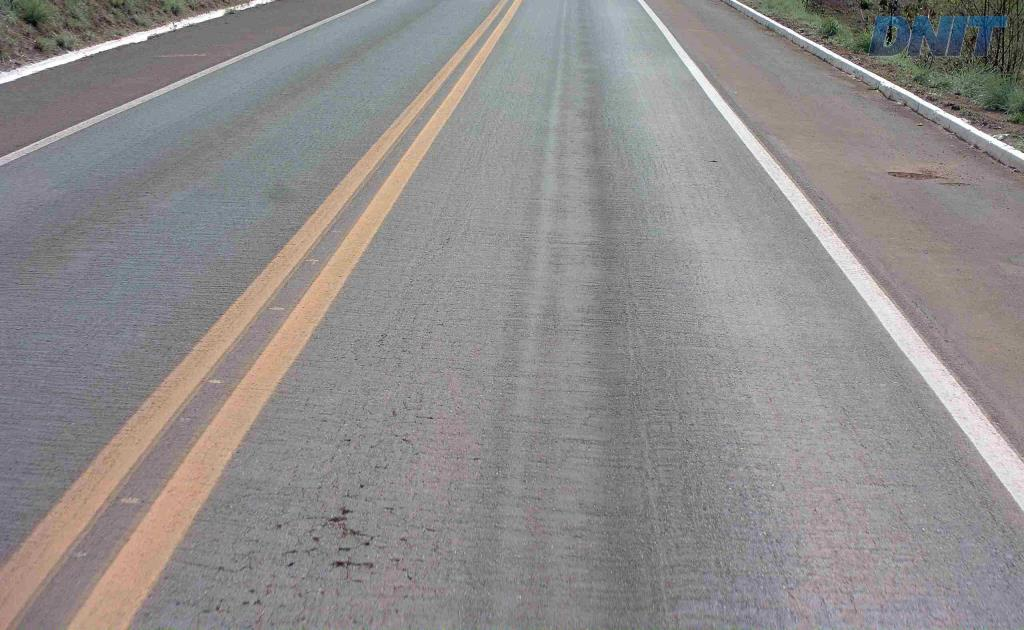crack: (319, 505, 367, 538)
